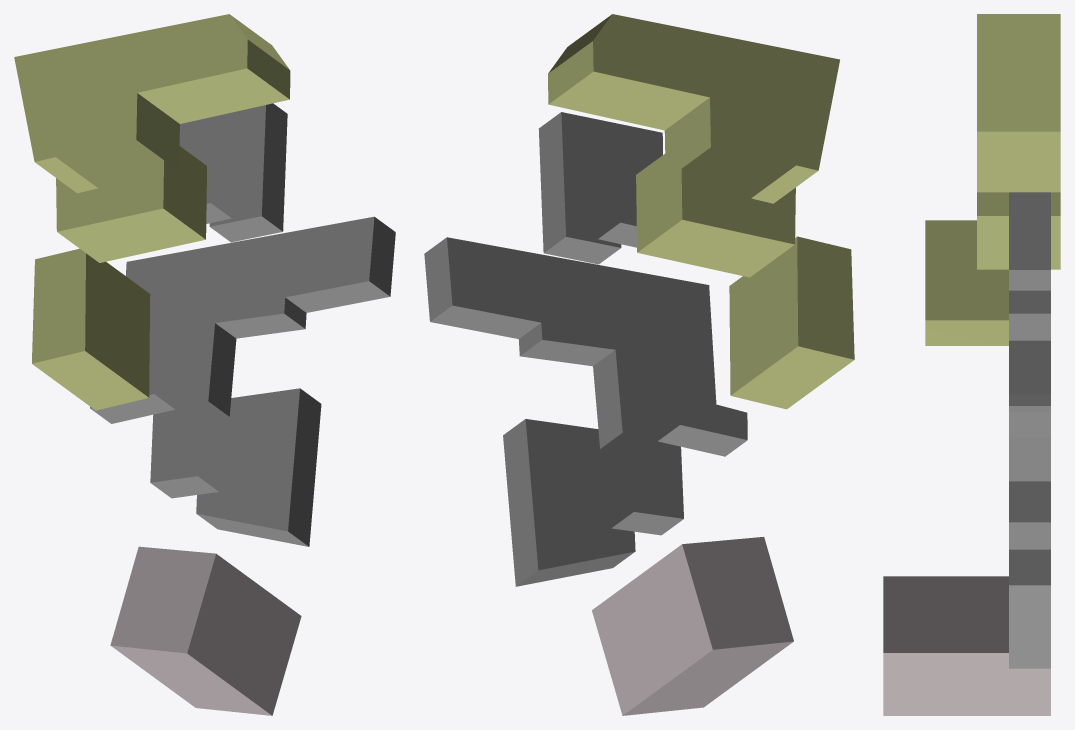
3 renders of one model, left to right at view 1: azimuth 30°, elevation 25°; view 2: azimuth 150°, elevation 25°; view 3: azimuth 270°, elevation 25°, orthographic. The views are drawn at different scales.
Visible parts, largest first — view 1: 0_1_0_2_1_3_0_3_1; view 2: 0_1_0_2_1_3_0_3_1; view 3: 0_1_0_2_1_3_0_3_1.
Boxes of the visible parts, bbox=[...] form: 0_1_0_2_1_3_0_3_1: bbox=[14, 14, 395, 715]; 0_1_0_2_1_3_0_3_1: bbox=[424, 14, 854, 715]; 0_1_0_2_1_3_0_3_1: bbox=[883, 14, 1060, 715].
Bounding box in the file's own units: 28.83 × 49.14 × 12.7.
